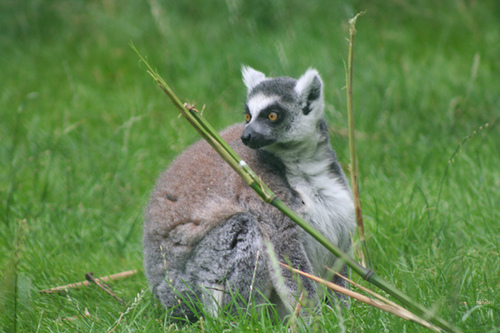cat: (143, 59, 359, 332)
